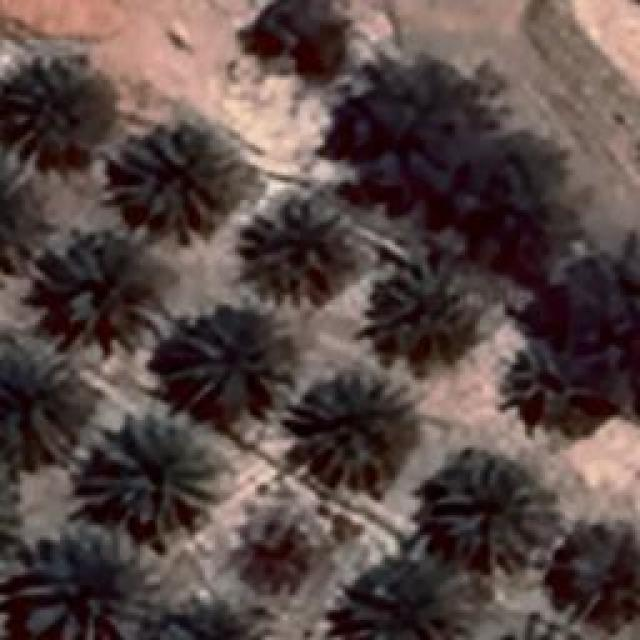PalmTree: (61, 78, 410, 601), (78, 410, 232, 532), (422, 454, 560, 568), (110, 120, 240, 240), (20, 522, 155, 636), (290, 370, 412, 492), (48, 225, 160, 350), (235, 190, 355, 305), (162, 320, 300, 415), (365, 260, 480, 370), (0, 342, 88, 462), (517, 338, 605, 436), (12, 54, 96, 152), (565, 524, 640, 632), (152, 601, 255, 640), (472, 612, 597, 640), (0, 448, 21, 583), (0, 448, 16, 577), (474, 623, 594, 640)
